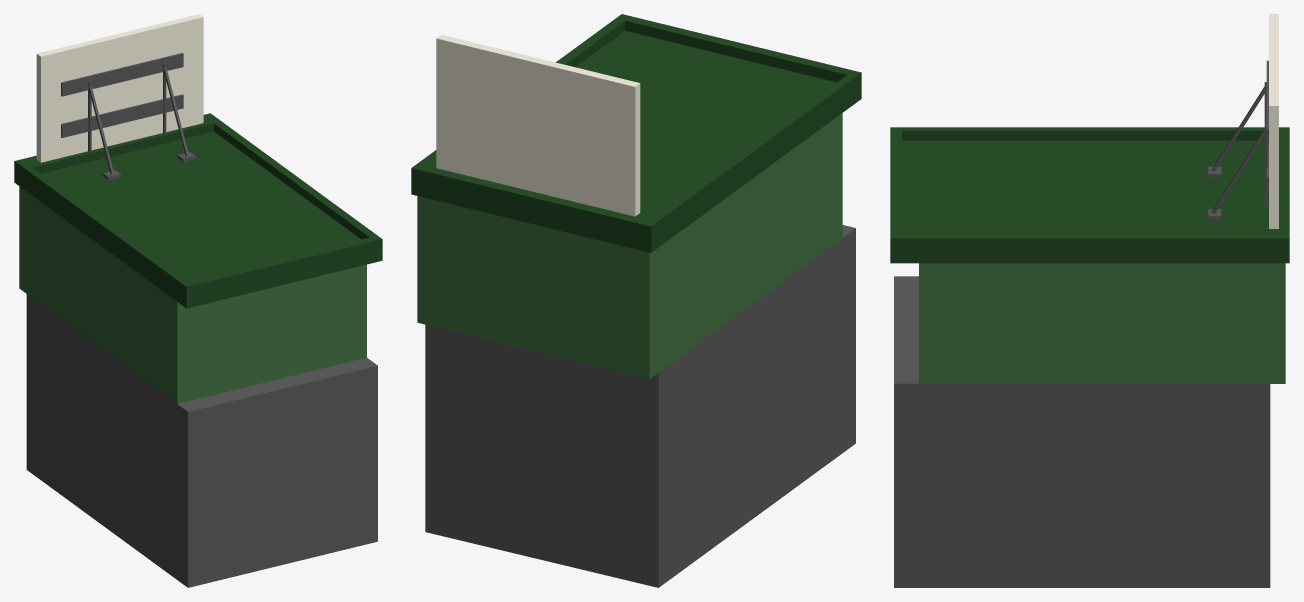
File: NorthWest_House_05.fbx
3 views of the same model, side by side, from view 1: azimuth 30°, elevation 25°; view 2: azimuth 150°, elevation 25°; view 3: azimuth 270°, elevation 25° (orthographic). The views are drawn at different scales.
Parts seen in each view (by area): view 1: NorthWest_House_05; view 2: NorthWest_House_05; view 3: NorthWest_House_05.
Part boxes in pixels (x1=…): NorthWest_House_05: x1=14, y1=14, x2=382, y2=587; NorthWest_House_05: x1=411, y1=14, x2=861, y2=587; NorthWest_House_05: x1=890, y1=14, x2=1289, y2=587.
Bounding box in the file's own units: 18.33 × 36.57 × 27.86.
